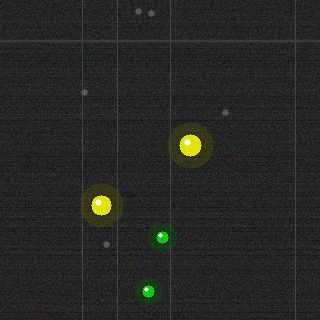green_normal: (140, 283, 156, 299), (154, 229, 170, 245)
yellow_warning: (177, 132, 203, 158), (89, 193, 113, 217)
